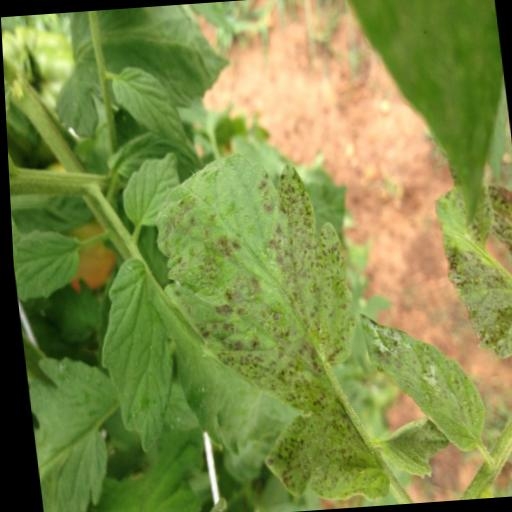Healthy: (84, 253, 181, 458), (107, 61, 189, 153), (113, 150, 183, 232), (9, 226, 84, 302)
Septoria: (142, 132, 387, 512), (354, 301, 487, 461), (428, 180, 512, 364)
